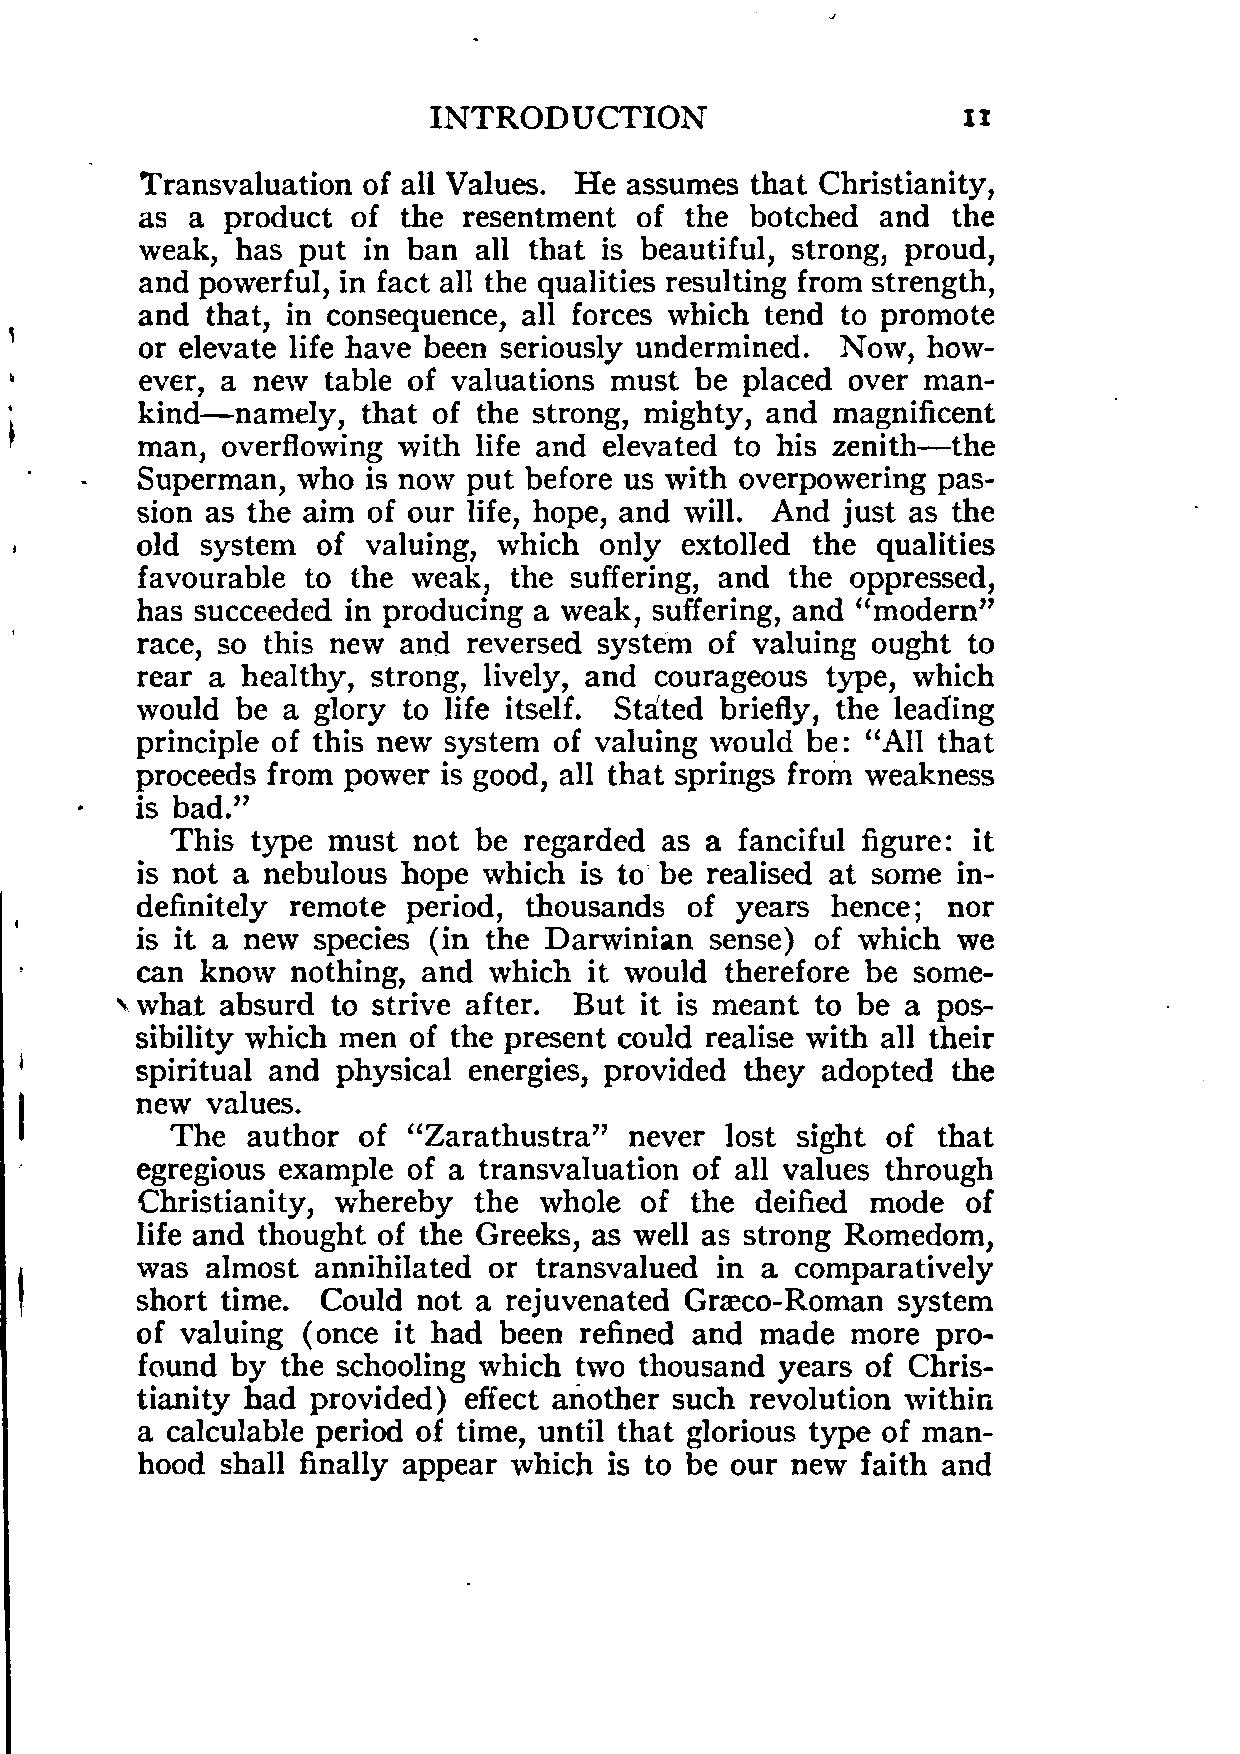content: (132, 160, 1001, 1490)
content_chapter: (421, 97, 711, 132)
content_pagenumber: (953, 95, 996, 132)
